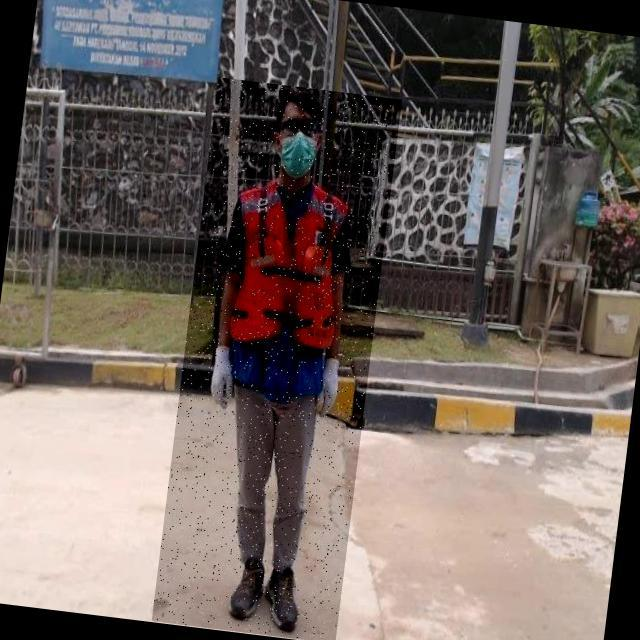Human: (152, 76, 403, 640)
Safety Boot: (262, 566, 308, 635), (229, 555, 272, 625)
Safety Vest: (218, 173, 353, 403)
